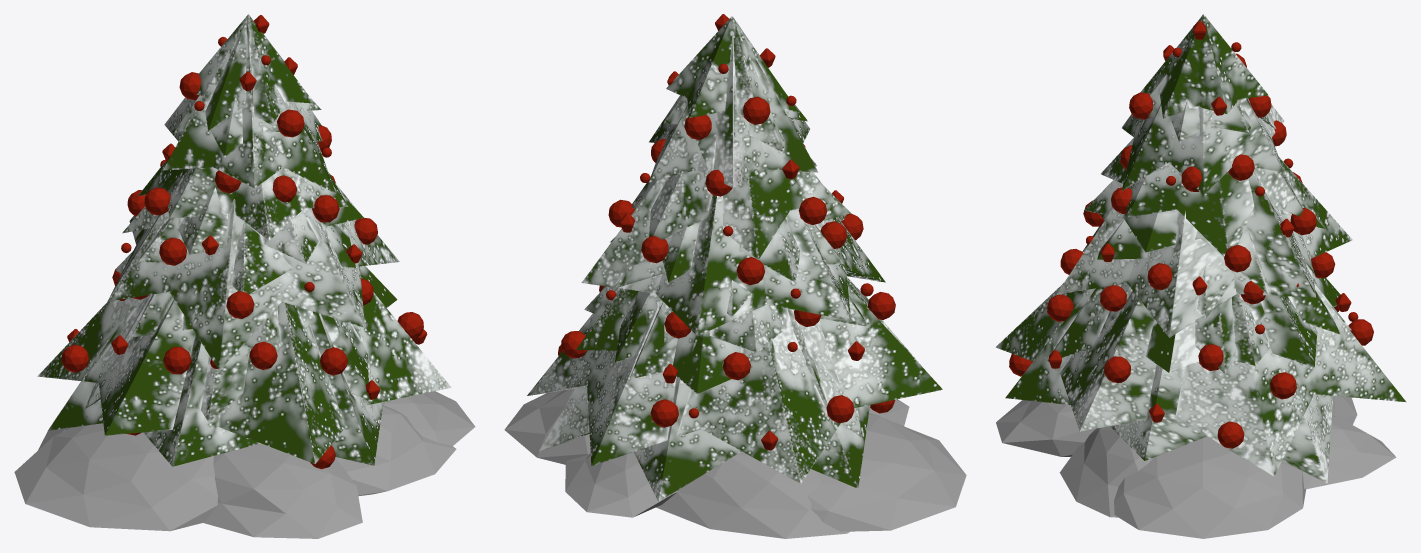
The model's file is uploads_files_3409994_ChristmasTree_2021_v2.fbx.
The picture shows the model from 3 angles, left to right: view 1: azimuth 30°, elevation 25°; view 2: azimuth 150°, elevation 25°; view 3: azimuth 270°, elevation 25°; orthographic projection. The views are drawn at different scales.
Visible parts, largest first — view 1: Tree_D, Icosphere, Icosphere.026, Icosphere.018, Icosphere.002, Icosphere.011, Icosphere.041, Icosphere.019, Icosphere.028, Icosphere.025, Icosphere.012; view 2: Tree_D, Icosphere, Icosphere.022, Icosphere.011, Icosphere.012, Icosphere.013, Icosphere.027, Icosphere.029, Icosphere.026, Icosphere.004, Icosphere.023; view 3: Tree_D, Icosphere, Icosphere.015, Icosphere.006, Icosphere.008, Icosphere.007, Icosphere.017, Icosphere.019, Icosphere.024, Icosphere.016, Icosphere.028, Icosphere.014 (+1 smaller).
Part boxes in pixels (box(x1,y1,x2,y2)): Tree_D: box(37, 14, 451, 466); Icosphere: box(14, 391, 475, 538); Icosphere.026: box(163, 347, 191, 374); Icosphere.018: box(249, 341, 277, 369); Icosphere.002: box(159, 237, 186, 265); Icosphere.011: box(61, 344, 89, 372); Icosphere.041: box(226, 291, 254, 318); Icosphere.019: box(320, 347, 347, 375); Icosphere.028: box(276, 109, 304, 137); Icosphere.025: box(312, 195, 339, 222); Icosphere.012: box(144, 187, 170, 215); Tree_D: box(527, 16, 942, 501); Icosphere: box(504, 389, 966, 538); Icosphere.022: box(650, 399, 678, 427); Icosphere.011: box(826, 395, 854, 423); Icosphere.012: box(799, 196, 827, 224); Icosphere.013: box(736, 257, 765, 285); Icosphere.027: box(723, 352, 750, 380); Icosphere.029: box(743, 96, 770, 124); Icosphere.026: box(867, 292, 895, 319); Icosphere.004: box(641, 236, 668, 263); Icosphere.023: box(684, 115, 711, 139); Tree_D: box(995, 14, 1406, 483); Icosphere: box(996, 396, 1396, 538); Icosphere.015: box(1224, 245, 1251, 272); Icosphere.006: box(1270, 372, 1296, 399); Icosphere.008: box(1104, 356, 1130, 382); Icosphere.007: box(1100, 285, 1126, 311); Icosphere.017: box(1217, 421, 1244, 448); Icosphere.019: box(1047, 294, 1073, 321); Icosphere.024: box(1198, 344, 1223, 370); Icosphere.016: box(1147, 263, 1172, 290); Icosphere.028: box(1129, 92, 1152, 119); Icosphere.014: box(1228, 154, 1254, 180).
Bounding box in the file's own units: 515 × 524 × 437.
7 materials, 5 textured.
